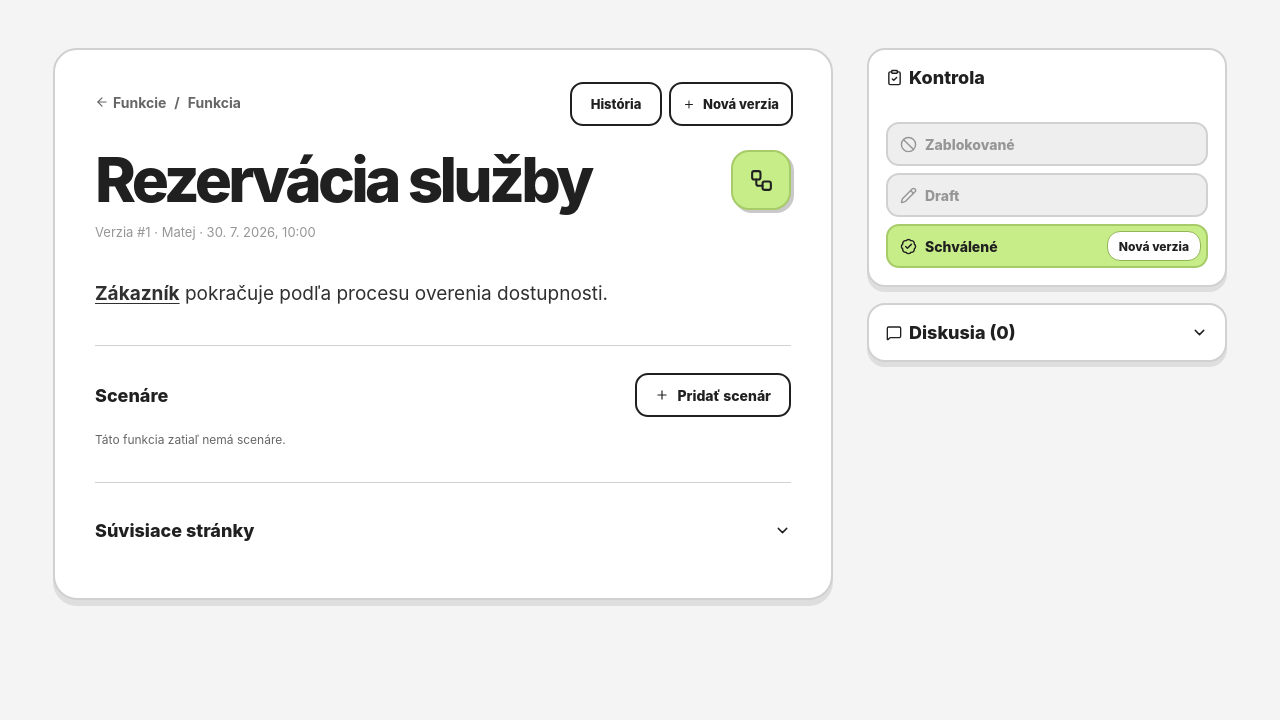
it: PagePage revision links › links concept mentions inline and keeps related pages in a closed accordion
The image size is (1280, 720).
Check: the element "Zákazník" is shown, box [95, 282, 608, 305]
Click the button "Súvisiace stránky" at (175, 530), box [95, 510, 791, 550]
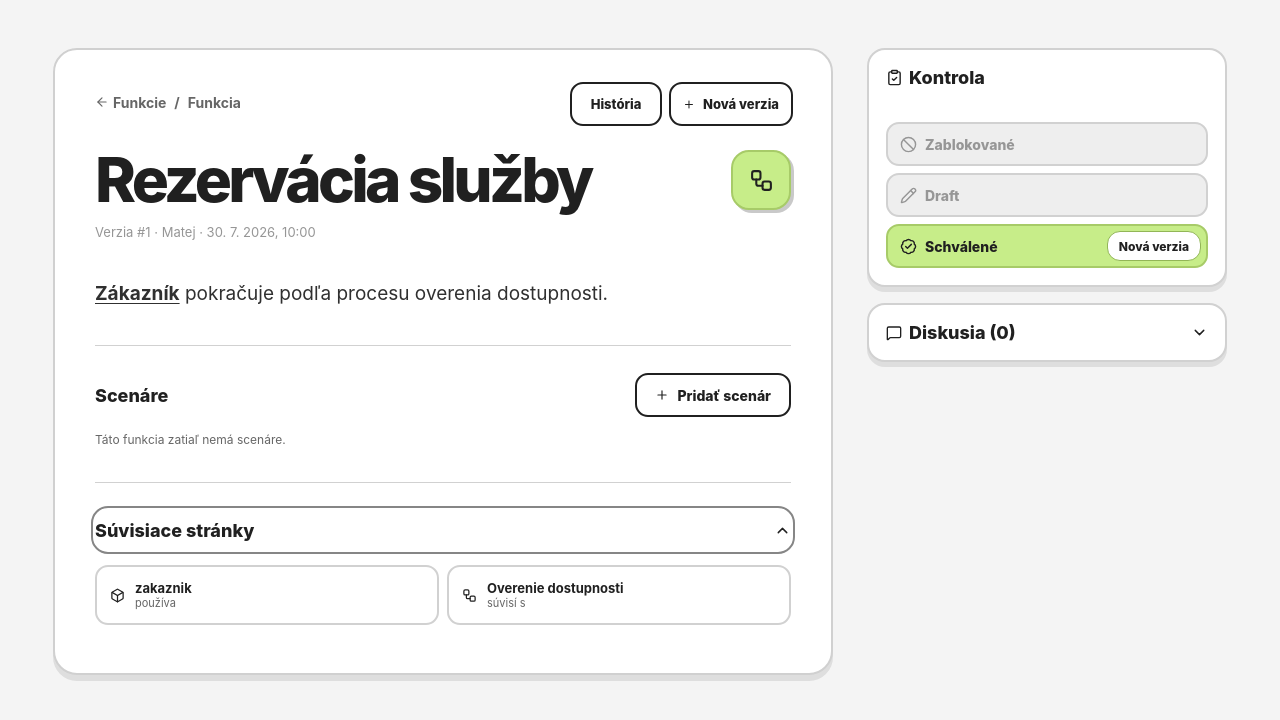
Check: the button "Súvisiace stránky" is expanded, box [95, 510, 791, 550]
Check: the element with class "reference-list" is shown, box [95, 565, 791, 625]
